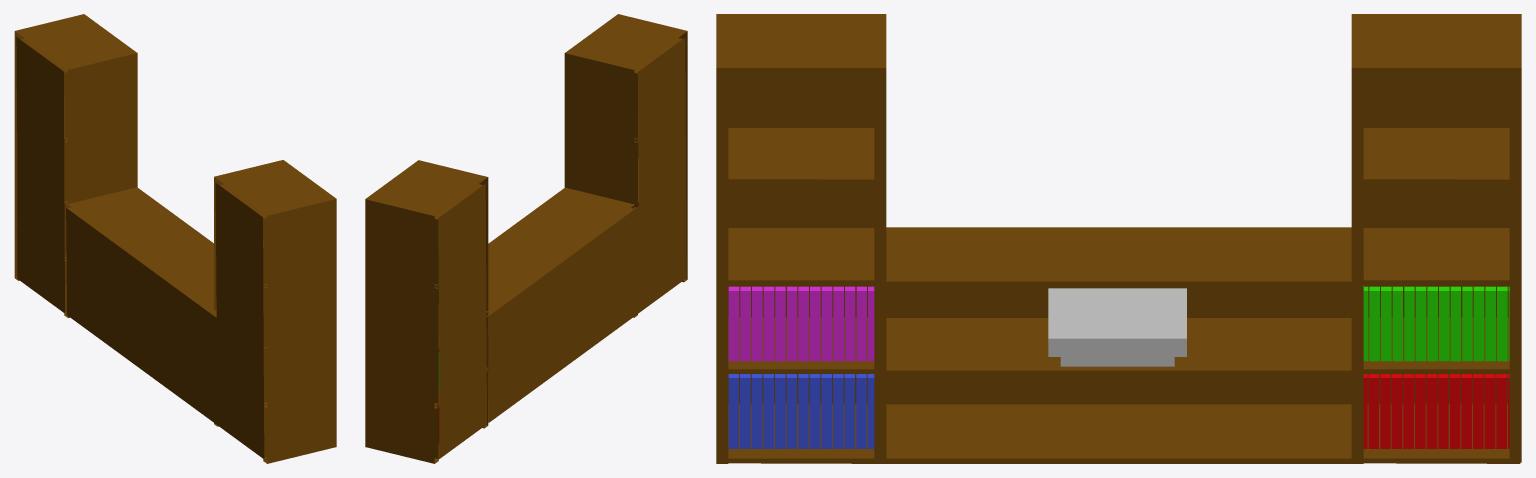
File: EntertainmentConsole.fbx
3 renders of one model, left to right at view 1: azimuth 30°, elevation 25°; view 2: azimuth 150°, elevation 25°; view 3: azimuth 270°, elevation 25°, orthographic. The views are drawn at different scales.
Parts seen in each view (by area): view 1: Cabinet.001, Cabinet.002, Cabinet; view 2: Cabinet.002, Cabinet.001, Cabinet; view 3: Cabinet, Cabinet.002, Cabinet.001, Cube, GamesGreen, GamesPurple, Console, GamesRed, GamesBlue.
Boxes of the visible parts, box(x1,y1,x2,y2) form: Cabinet.001: box(214, 160, 336, 463); Cabinet.002: box(14, 14, 137, 317); Cabinet: box(66, 187, 216, 424); Cabinet.002: box(365, 160, 488, 463); Cabinet.001: box(564, 14, 687, 317); Cabinet: box(486, 187, 638, 422); Cabinet: box(885, 227, 1351, 463); Cabinet.002: box(1351, 14, 1521, 463); Cabinet.001: box(716, 14, 886, 463); Cube: box(886, 318, 1351, 376); GamesGreen: box(1363, 285, 1509, 361); GamesPurple: box(728, 286, 874, 361); Console: box(1048, 288, 1186, 366); GamesRed: box(1363, 374, 1509, 448); GamesBlue: box(728, 374, 874, 448).
Size of the model in its own units: 80.76 by 272 by 502.
